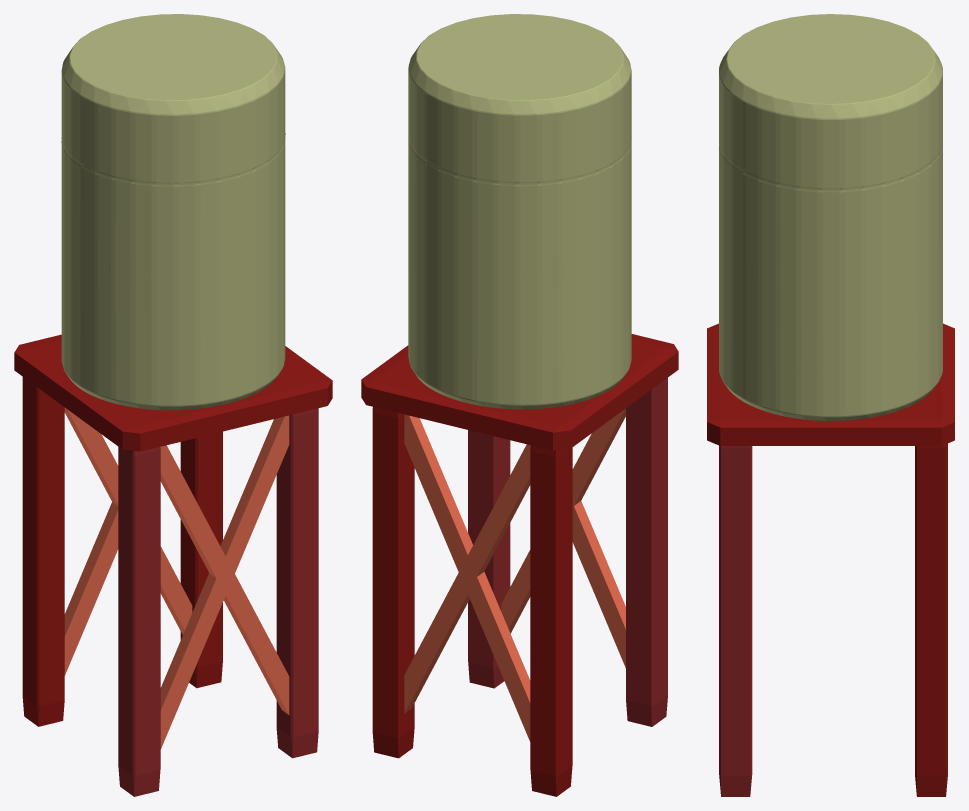
The model's file is tanque.glb.
3 renders of one model, left to right at view 1: azimuth 30°, elevation 25°; view 2: azimuth 150°, elevation 25°; view 3: azimuth 270°, elevation 25°, orthographic. The views are drawn at different scales.
Visible parts, largest first — view 1: tanque_Material.003_0, patas_Material.005_0, patas2_Material.006_0, X_Material.007_0, base_Material.004_0; view 2: tanque_Material.003_0, patas2_Material.006_0, patas_Material.005_0, X_Material.007_0, base_Material.004_0; view 3: tanque_Material.003_0, patas_Material.005_0, patas2_Material.006_0, base_Material.004_0.
Part boxes in pixels (x1,y1,x2,y2): tanque_Material.003_0: (61, 14, 285, 410); patas_Material.005_0: (118, 408, 318, 796); patas2_Material.006_0: (22, 377, 222, 726); X_Material.007_0: (64, 407, 289, 749); base_Material.004_0: (14, 334, 332, 451); tanque_Material.003_0: (408, 14, 631, 409); patas2_Material.006_0: (372, 407, 572, 796); patas_Material.005_0: (468, 378, 667, 726); X_Material.007_0: (404, 408, 625, 741); base_Material.004_0: (361, 334, 678, 450); tanque_Material.003_0: (719, 14, 942, 420); patas_Material.005_0: (719, 445, 752, 796); patas2_Material.006_0: (915, 443, 947, 796); base_Material.004_0: (707, 323, 954, 445).
Size of the model in its own units: 10.33 by 31.85 by 10.33.
5 materials, 5 textured.
